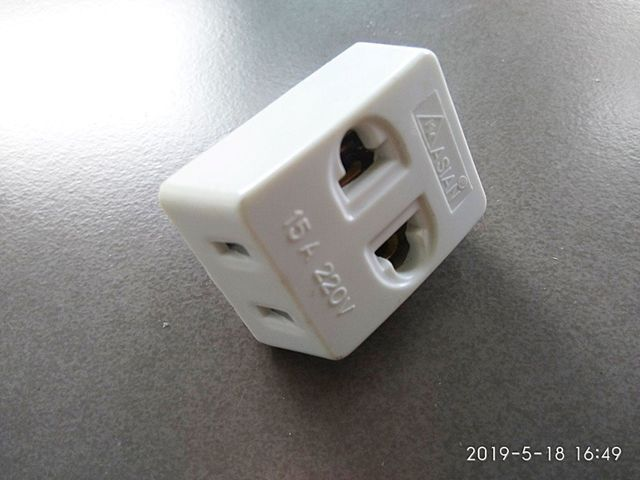Three_eye_plug: (153, 34, 493, 371)
